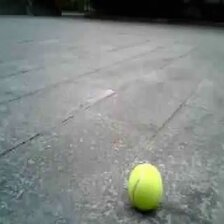tennis: (129, 164, 162, 206)
